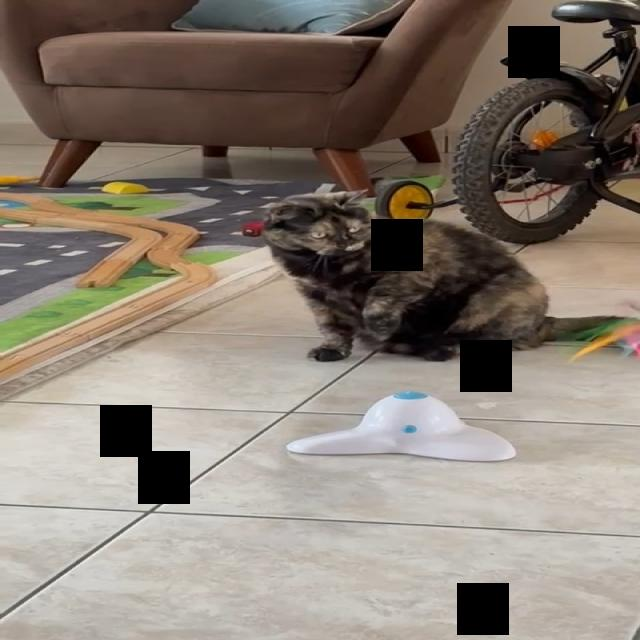authorized: (259, 188, 629, 362)
